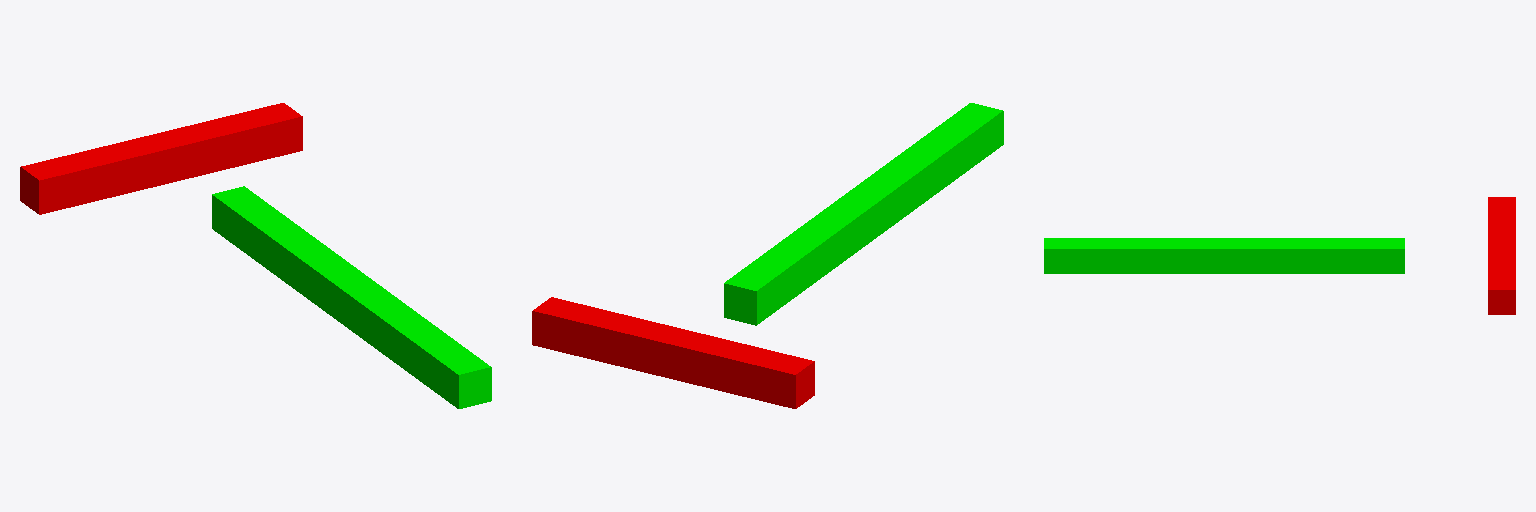
The robot description file, URDF, robot "lockbox2017_0":
<!-- created with Phobos 1.0.1 "Capricious Choutengan" --><robot name="lockbox2017_0">

    <link name="base_link">
      <inertial>
        <origin xyz="0 0 0" rpy="0 0 0"/>
        <mass value="0.001"/>
        <inertia ixx="0.001" ixy="0" ixz="0" iyy="0.001" iyz="0" izz="0.001"/>
      </inertial>
    </link>

    <link name="goal">
      <inertial>
        <origin xyz="0 0 0" rpy="0 0 0"/>
        <mass value="0.001"/>
        <inertia ixx="0.001" ixy="0" ixz="0" iyy="0.001" iyz="0" izz="0.001"/>
      </inertial>
      <visual name="visual_box_0_joint_0.001">
        <origin xyz="0 0 0" rpy="0 0 0"/>
        <geometry>
          <box size="0.2 1.6 0.2"/>
        </geometry>
        <material name="green_translucent"/>
      </visual>
    </link>

    <link name="link_0_joint_0">
      <inertial>
        <origin xyz="0 0 0" rpy="0 0 0"/>
        <mass value="0.001"/>
        <inertia ixx="0.001" ixy="0" ixz="0" iyy="0.001" iyz="0" izz="0.001"/>
      </inertial>
      <visual name="visual_box_0_joint_0">
        <origin xyz="0 0 0" rpy="0 0 0"/>
        <geometry>
          <box size="0.2 1.6 0.2"/>
        </geometry>
        <material name="green"/>
      </visual>
      <collision name="collision_box_0_joint_0">
        <origin xyz="0 0 0" rpy="0 0 0"/>
        <geometry>
          <box size="0.2 1.6 0.2"/>
        </geometry>
      </collision>
    </link>

    <link name="link_1_joint_0">
      <inertial>
        <origin xyz="0 0 0" rpy="0 0 0"/>
        <mass value="0.001"/>
        <inertia ixx="0.001" ixy="0" ixz="0" iyy="0.001" iyz="0" izz="0.001"/>
      </inertial>
      <visual name="visual_box_1_joint_0">
        <origin xyz="0 0 0" rpy="0 0 0"/>
        <geometry>
          <box size="1.6 0.2 0.2"/>
        </geometry>
        <material name="red"/>
      </visual>
      <collision name="collision_box_1_joint_0">
        <origin xyz="0 0 0" rpy="0 0 0"/>
        <geometry>
          <box size="1.6 0.2 0.2"/>
        </geometry>
      </collision>
    </link>

    <joint name="goal" type="fixed">
      <origin xyz="0 1.0 0.2" rpy="0 0 0"/>
      <parent link="base_link"/>
      <child link="goal"/>
      <limit effort="0" velocity="0"/>
    </joint>

    <joint name="link_0_joint_0" type="prismatic">
      <origin xyz="0 0 0.2" rpy="0 0 0"/>
      <parent link="base_link"/>
      <child link="link_0_joint_0"/>
      <axis xyz="0 1.0 0"/>
      <limit lower="0" upper="1.0" effort="0" velocity="0"/>
    </joint>

    <joint name="link_1_joint_0" type="prismatic">
      <origin xyz="0 2.5 0.2" rpy="0 0 0"/>
      <parent link="base_link"/>
      <child link="link_1_joint_0"/>
      <axis xyz="1.0 0 0"/>
      <limit lower="0" upper="1.0" effort="0" velocity="0"/>
    </joint>

    <material name="green">
      <color rgba="0 1.0 0 1.0"/>
    </material>

    <material name="green_translucent">
      <color rgba="0 1.0 0 0.25"/>
    </material>

    <material name="red">
      <color rgba="1.0 0 0 1.0"/>
    </material>

  </robot>

--- Render facts (derived) ---
3 views of the same robot in one strip: view 1: azimuth 30°, elevation 25°; view 2: azimuth 150°, elevation 25°; view 3: azimuth 270°, elevation 25° (orthographic).
Model lockbox2017_0 with 4 links and 3 joints (2 prismatic, 1 fixed), rooted at base_link, posed every joint at zero.
Visible links, largest first — view 1: link_1_joint_0, link_0_joint_0, goal; view 2: link_1_joint_0, goal, link_0_joint_0; view 3: goal, link_0_joint_0, link_1_joint_0.
Link boxes in pixels (x1,y1,x2,y2): link_1_joint_0: (20,103,302,214); link_0_joint_0: (307,256,491,408); goal: (212,186,393,338); link_1_joint_0: (532,297,814,408); goal: (724,172,908,325); link_0_joint_0: (823,103,1003,248); goal: (1183,238,1404,273); link_0_joint_0: (1044,238,1265,273); link_1_joint_0: (1488,197,1515,314).
Bounding box of the posed robot: 1.6 × 3.4 × 0.2 m (x, y, z).
Geometry: primitives only (box / cylinder / sphere), no mesh files.